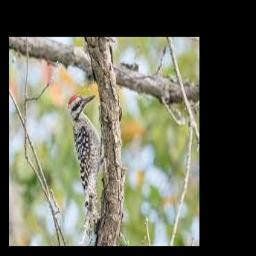Woodpecker: (68, 94, 103, 246)
